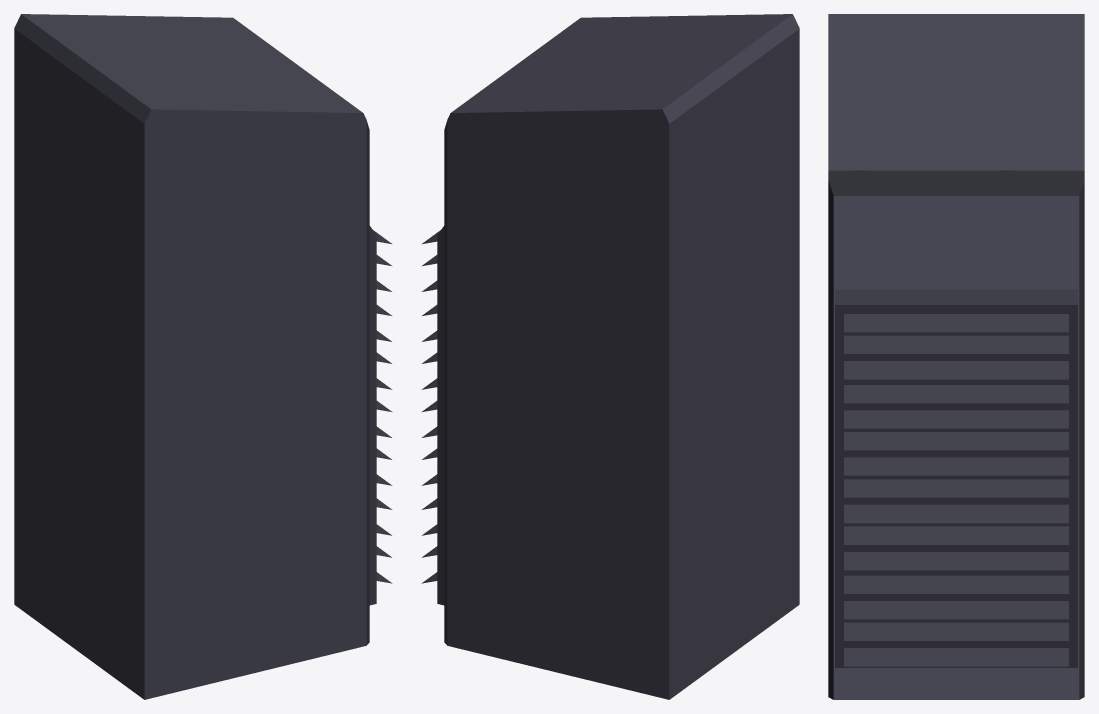
The model's file is obstacle1.glb.
3 views of the same model, side by side, from view 1: azimuth 30°, elevation 25°; view 2: azimuth 150°, elevation 25°; view 3: azimuth 270°, elevation 25° (orthographic).
Visible parts, largest first — view 1: Obstacle; view 2: Obstacle; view 3: Obstacle.
Boxes of the visible parts, <box> form: Obstacle: <box>14,14,392,699</box>; Obstacle: <box>421,14,799,699</box>; Obstacle: <box>828,14,1084,699</box>.
Bounding box in the file's own units: 0.9084 × 1.99 × 0.8.
Materials: 1 (1 with a texture image).
